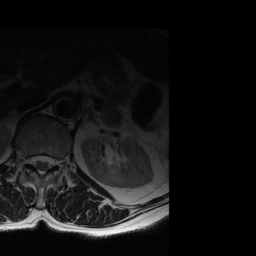CCS_normal: (38, 145, 46, 184)
LFS_normal: (54, 148, 62, 175)
LLS_normal: (46, 146, 54, 177)
RFS_normal: (21, 146, 29, 171)
RLS_normal: (29, 147, 38, 174)
